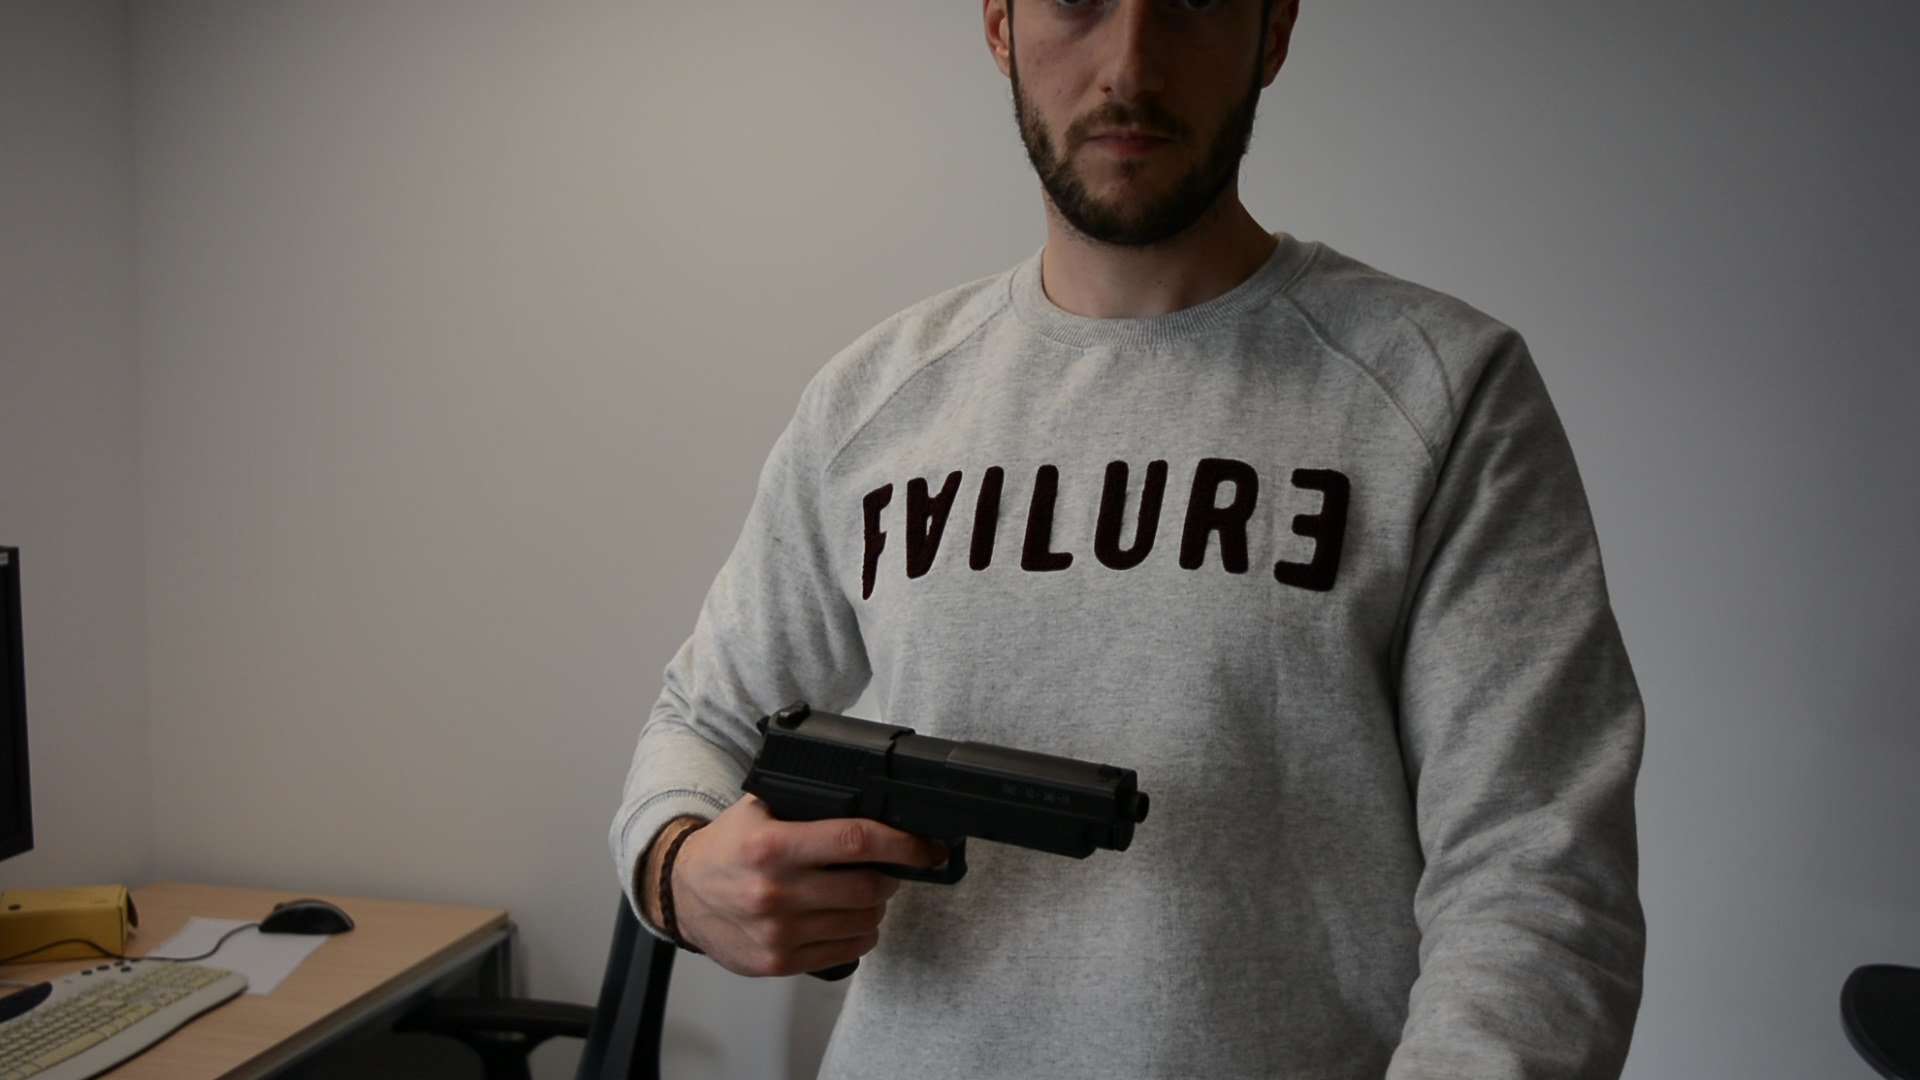pistol: (738, 698, 1151, 984)
